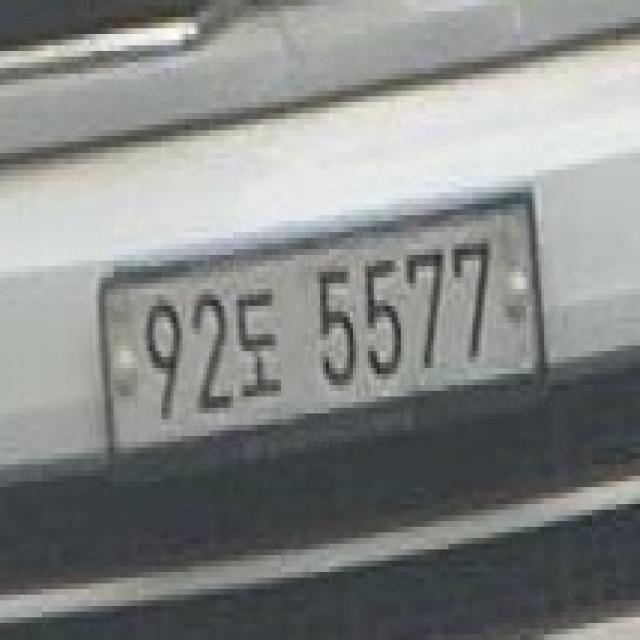plat: (96, 180, 545, 472)
